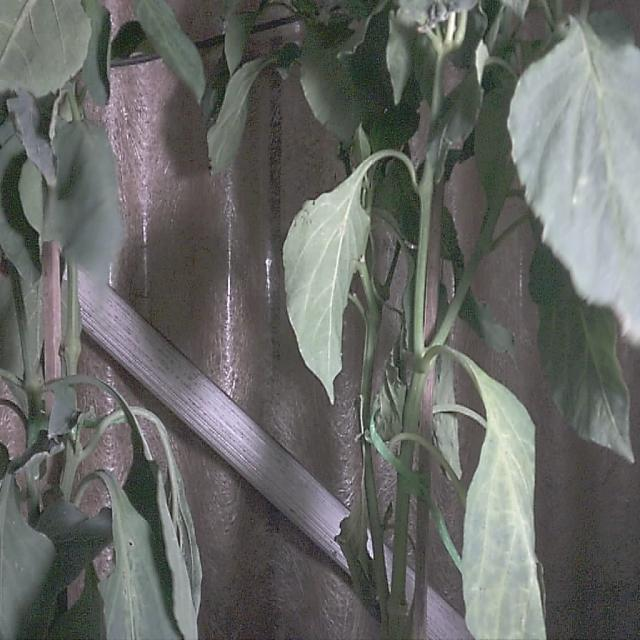Leaf: (509, 19, 639, 339), (530, 246, 633, 462), (46, 120, 123, 281), (0, 475, 54, 639), (0, 0, 91, 97), (207, 58, 271, 173), (134, 0, 205, 103), (82, 0, 110, 105)
